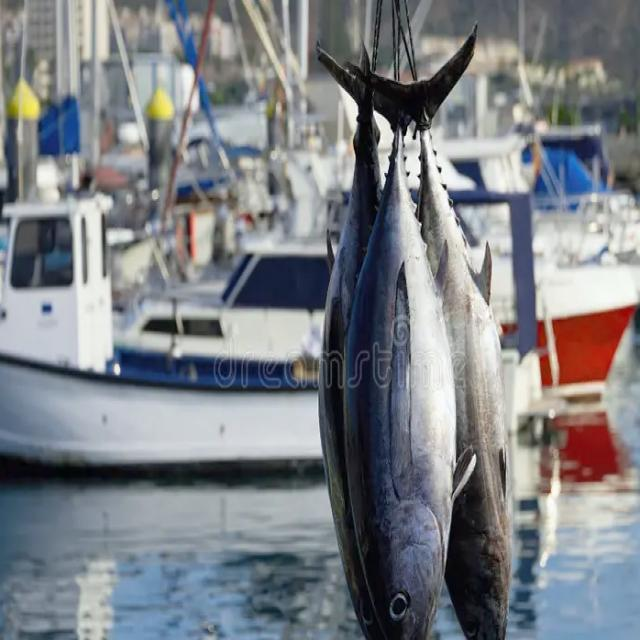Tuna: (341, 41, 477, 640)
